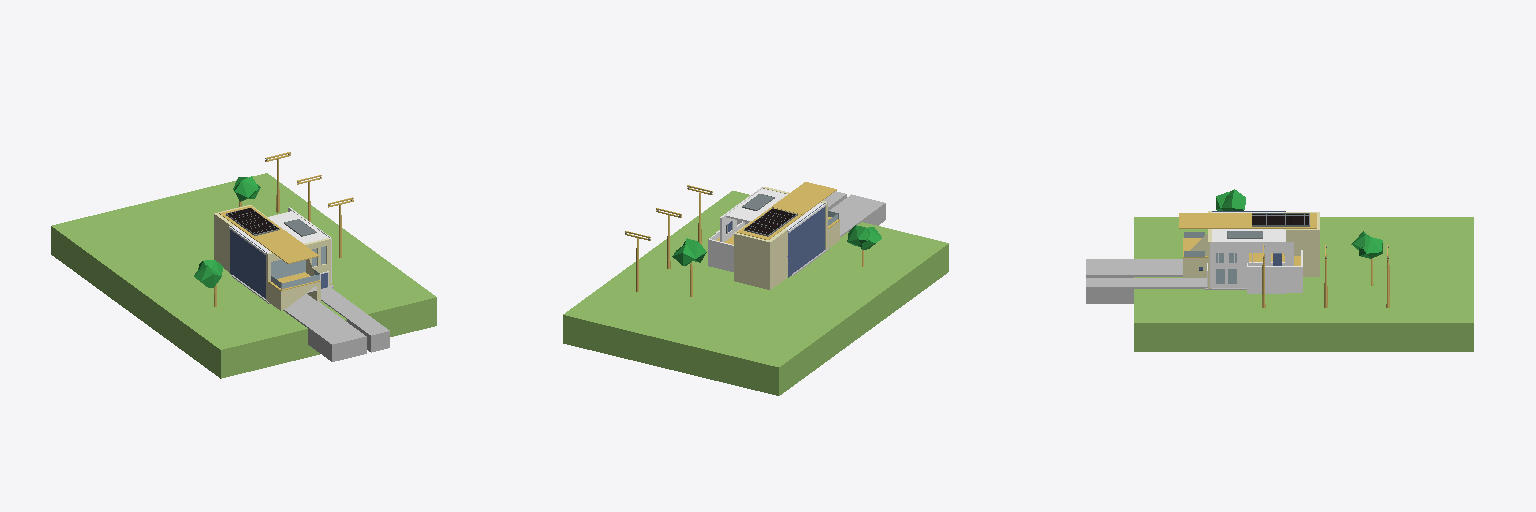
The model's file is Solar House.obj.
The picture shows the model from 3 angles: view 1: azimuth 30°, elevation 25°; view 2: azimuth 150°, elevation 25°; view 3: azimuth 270°, elevation 25°; orthographic projection.
Visible parts, largest first — view 1: Cube, Cube.9, floors.2, Path.12, Cube.8, Cube.9_1, Cube.1, Cube.2, Cap_1_82; view 2: Cube, Cube.2, floors.2, Cube.9, Path.12, Cube.1; view 3: Cube, Cube.8, Cube.9, Cube.2, Cap_1_63, Path.12, Cap_1_73, Cube.1, Cube.7_1, Cube.9_1.
Part boxes in pixels (x1,y1,x2,y2): Cube: (51,173,436,378); Cube.9: (300,319,366,361); floors.2: (230,226,266,298); Path.12: (254,231,318,263); Cube.8: (333,303,389,352); Cube.9_1: (283,293,341,327); Cube.1: (229,211,328,255); Cube.2: (214,205,267,272); Cap_1_82: (268,239,330,285); Cube: (563,191,948,395); Cube.2: (734,221,787,289); floors.2: (788,203,824,277); Cube.9: (829,194,885,229); Path.12: (772,182,836,214); Cube.1: (726,188,826,232); Cube: (1134,217,1473,351); Cube.8: (1086,278,1161,303); Cube.9: (1086,259,1161,277); Cube.2: (1284,212,1319,276); Cap_1_63: (1239,242,1293,287); Path.12: (1179,213,1247,227); Cap_1_73: (1211,242,1241,287); Cube.1: (1212,212,1285,241); Cube.7_1: (1134,278,1207,288); Cube.9_1: (1134,259,1182,276).
Bounding box in the file's own units: 660 × 250 × 1025.